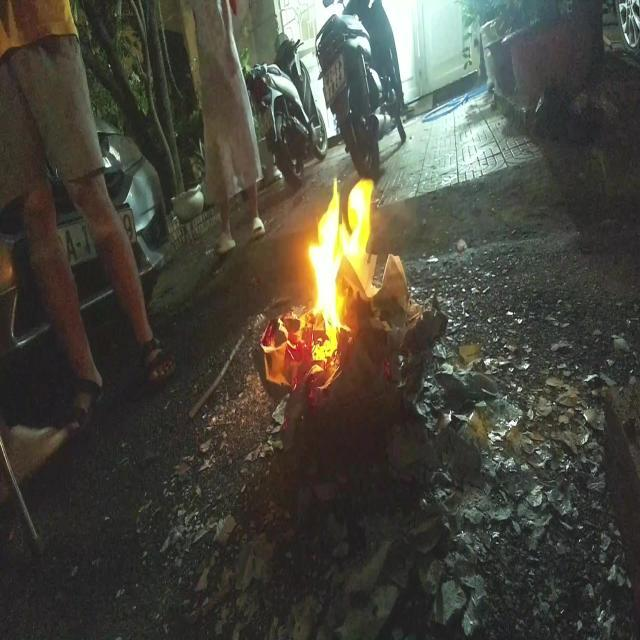Fire: (305, 177, 374, 355)
